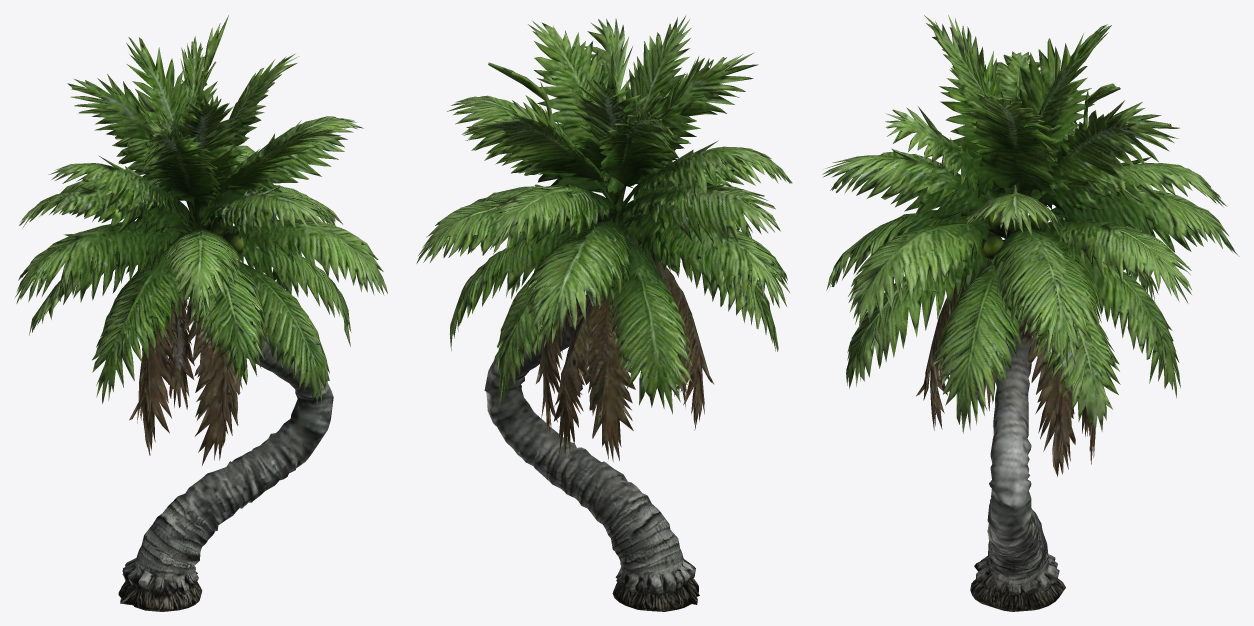
File: CCG_Palm_B_web.glb
The picture shows the model from 3 angles, left to right: view 1: azimuth 30°, elevation 25°; view 2: azimuth 150°, elevation 25°; view 3: azimuth 270°, elevation 25°; orthographic projection. The views are drawn at different scales.
Parts seen in each view (by area): view 1: tripo_node_5c9a6749-41a4-4f22-9df1-432eaf5c60b5; view 2: tripo_node_5c9a6749-41a4-4f22-9df1-432eaf5c60b5; view 3: tripo_node_5c9a6749-41a4-4f22-9df1-432eaf5c60b5.
Part boxes in pixels (left/top/right/bottom): tripo_node_5c9a6749-41a4-4f22-9df1-432eaf5c60b5: left=14, top=15, right=387, bottom=611; tripo_node_5c9a6749-41a4-4f22-9df1-432eaf5c60b5: left=416, top=16, right=792, bottom=611; tripo_node_5c9a6749-41a4-4f22-9df1-432eaf5c60b5: left=822, top=15, right=1239, bottom=611.
Size of the model in its own units: 0.6467 by 0.9752 by 0.6431.
Materials: 1 (1 with a texture image).
